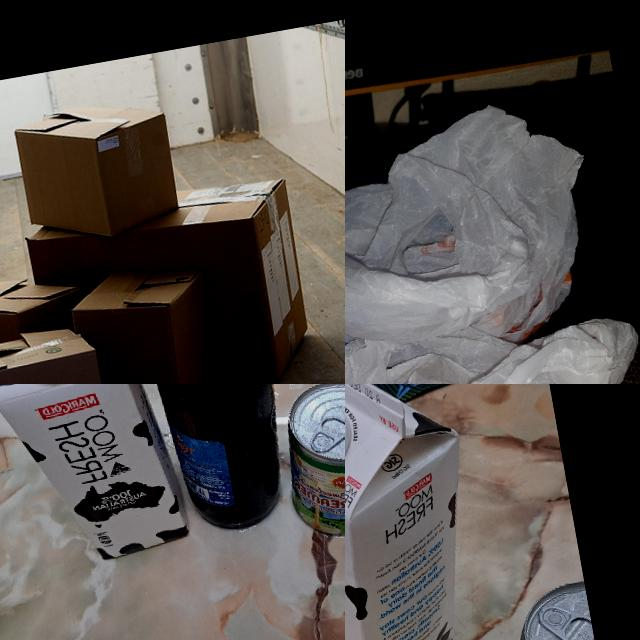aba de lata: (537, 598, 596, 640), (305, 411, 345, 453)
caixinha: (345, 384, 511, 640), (0, 384, 197, 577)
garrafa de vidro: (123, 384, 298, 537)
lata: (271, 384, 345, 542), (480, 579, 620, 640)
papelão: (21, 176, 318, 384), (10, 90, 184, 252), (64, 255, 232, 384), (0, 267, 88, 354), (0, 321, 116, 384)
sacola plástica: (345, 82, 640, 384)
